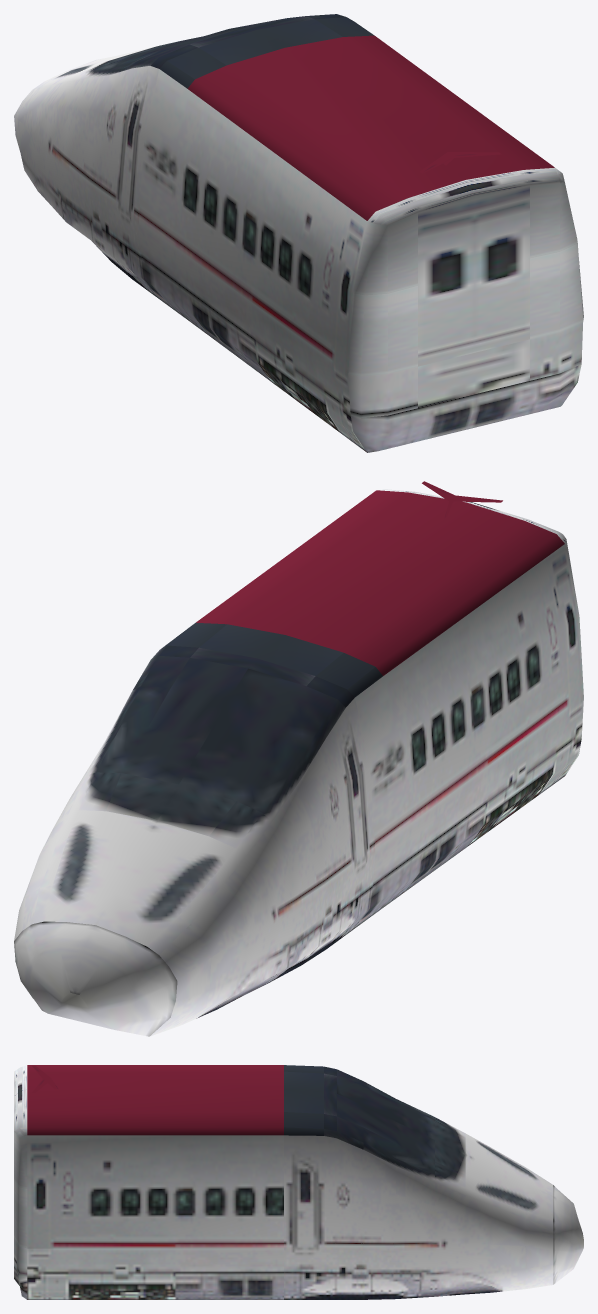
The model's file is ICON.ICO.obj.
3 views of the same model, one above another, from view 1: azimuth 30°, elevation 25°; view 2: azimuth 150°, elevation 25°; view 3: azimuth 270°, elevation 25° (orthographic). The views are drawn at different scales.
Bounding box in the file's own units: 1.25 × 1.33 × 3.66.
1 material, 1 textured.
